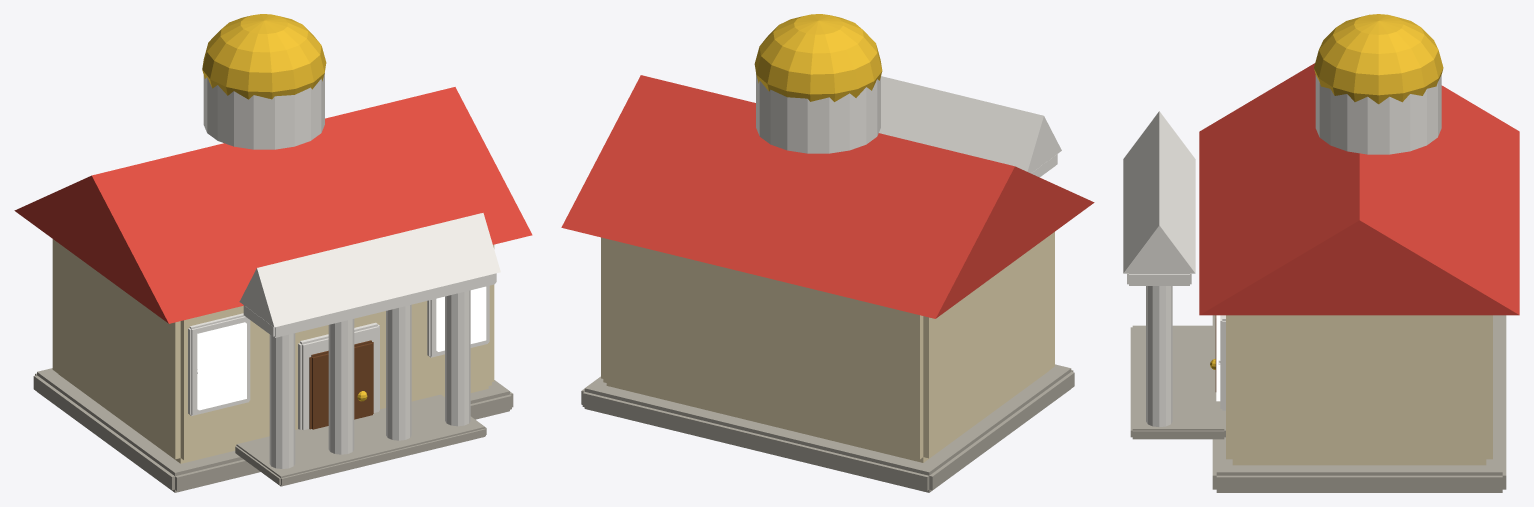
File: hall.glb
3 views of the same model, side by side, from view 1: azimuth 30°, elevation 25°; view 2: azimuth 150°, elevation 25°; view 3: azimuth 270°, elevation 25° (orthographic). The views are drawn at different scales.
Parts seen in each view (by area): view 1: hall; view 2: hall; view 3: hall.
Part boxes in pixels (box(x1,y1,x2,y2)): hall: box(14, 14, 532, 492); hall: box(561, 14, 1094, 492); hall: box(1123, 14, 1519, 492).
Size of the model in its own units: 2.28 by 2.24 by 2.08.
